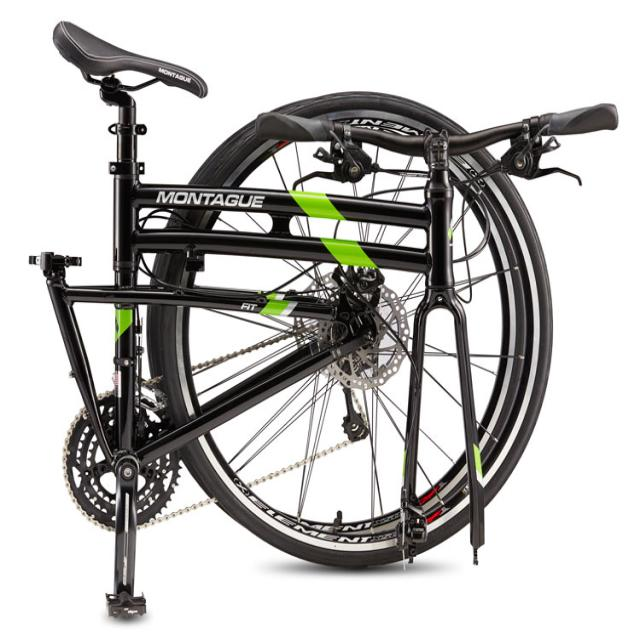folding-bike: (24, 17, 625, 622)
